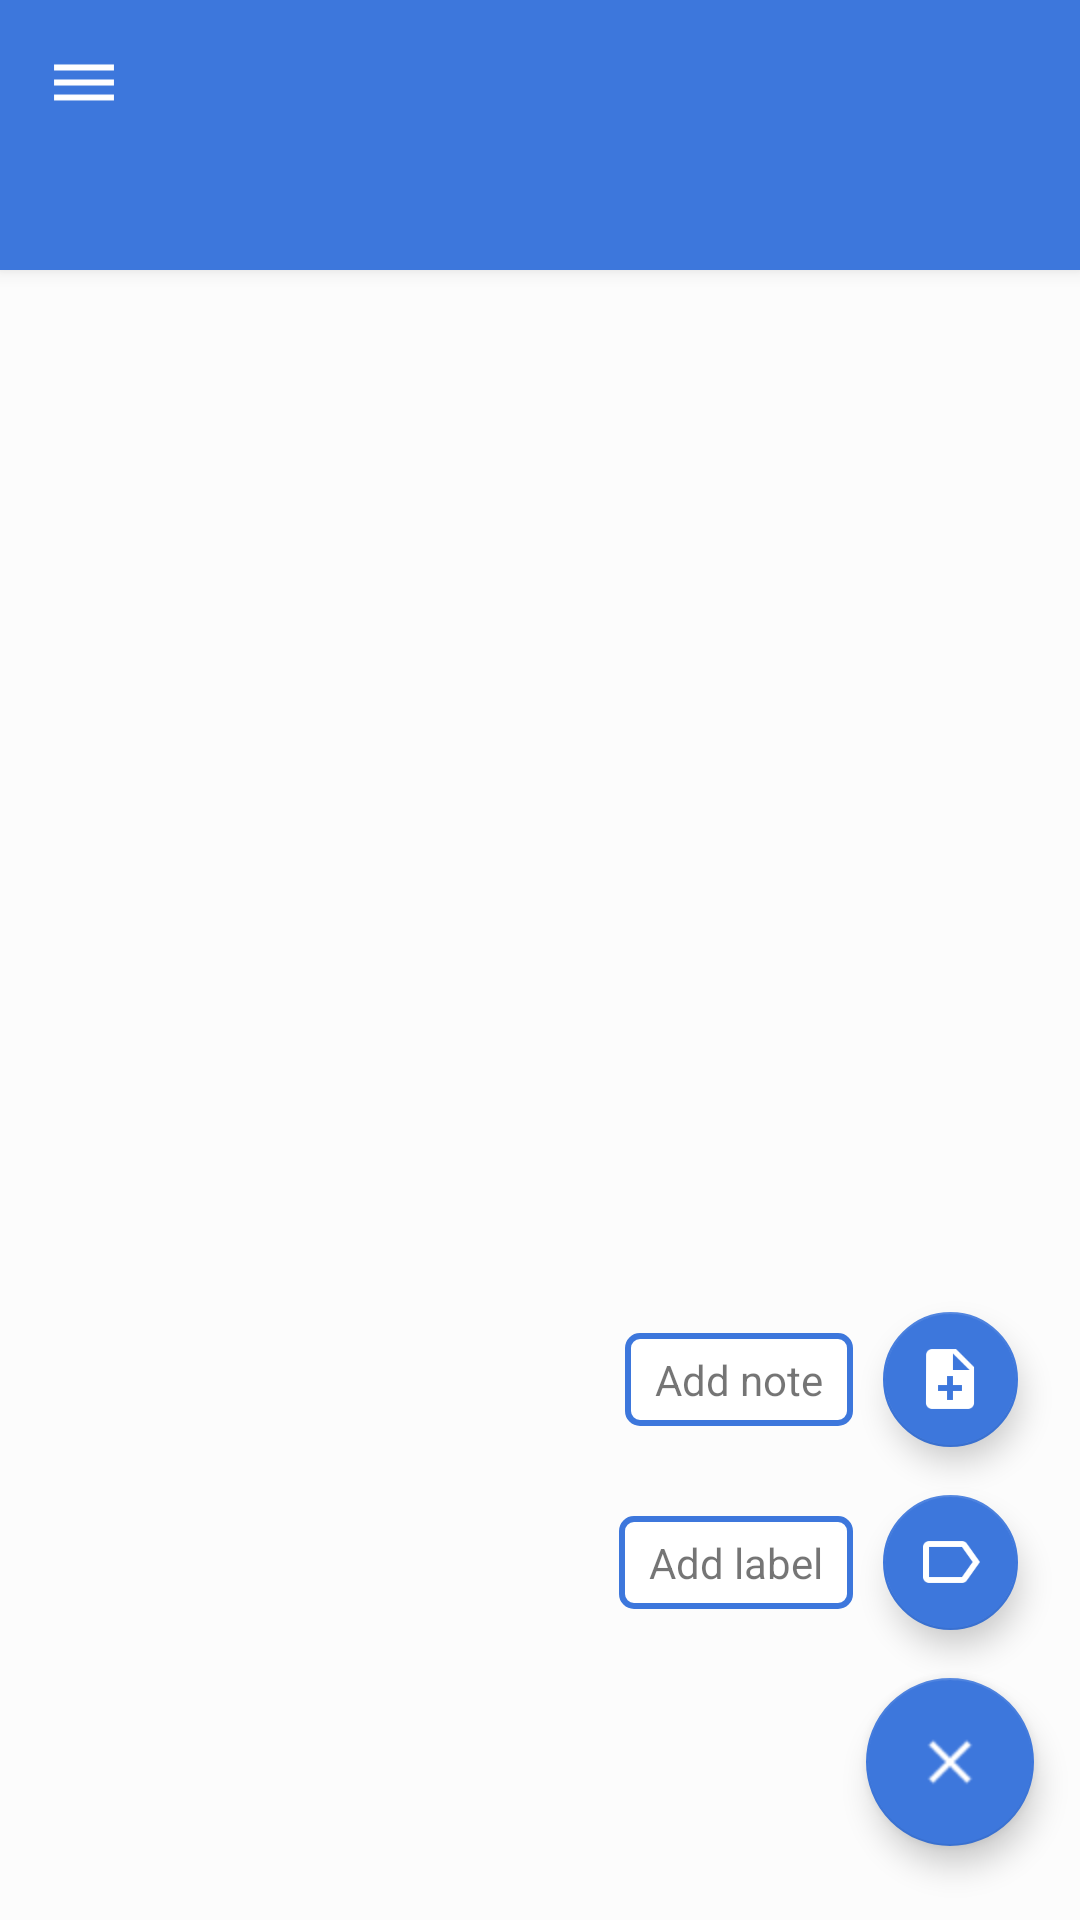

Screen size 1080×1920. Icon name, then its box in pixels as box=[x1, y1, x2, y2]:
close: box=[866, 1678, 1034, 1846]
